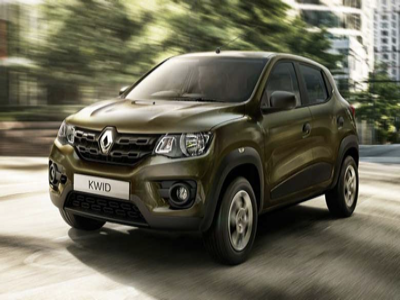licence: (77, 169, 124, 197)
